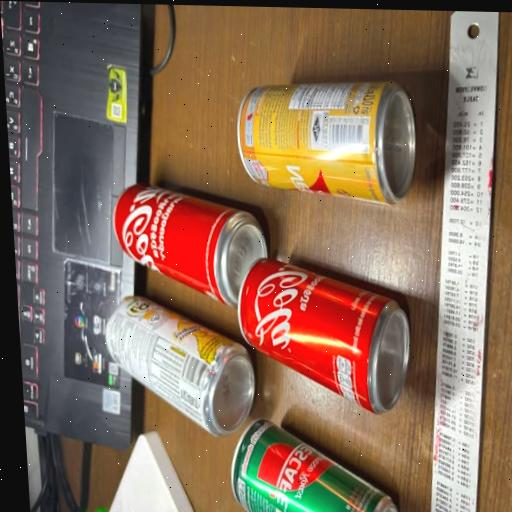canned: (224, 235, 436, 412), (219, 60, 434, 212), (98, 289, 259, 452), (100, 161, 273, 311), (211, 400, 403, 512)
